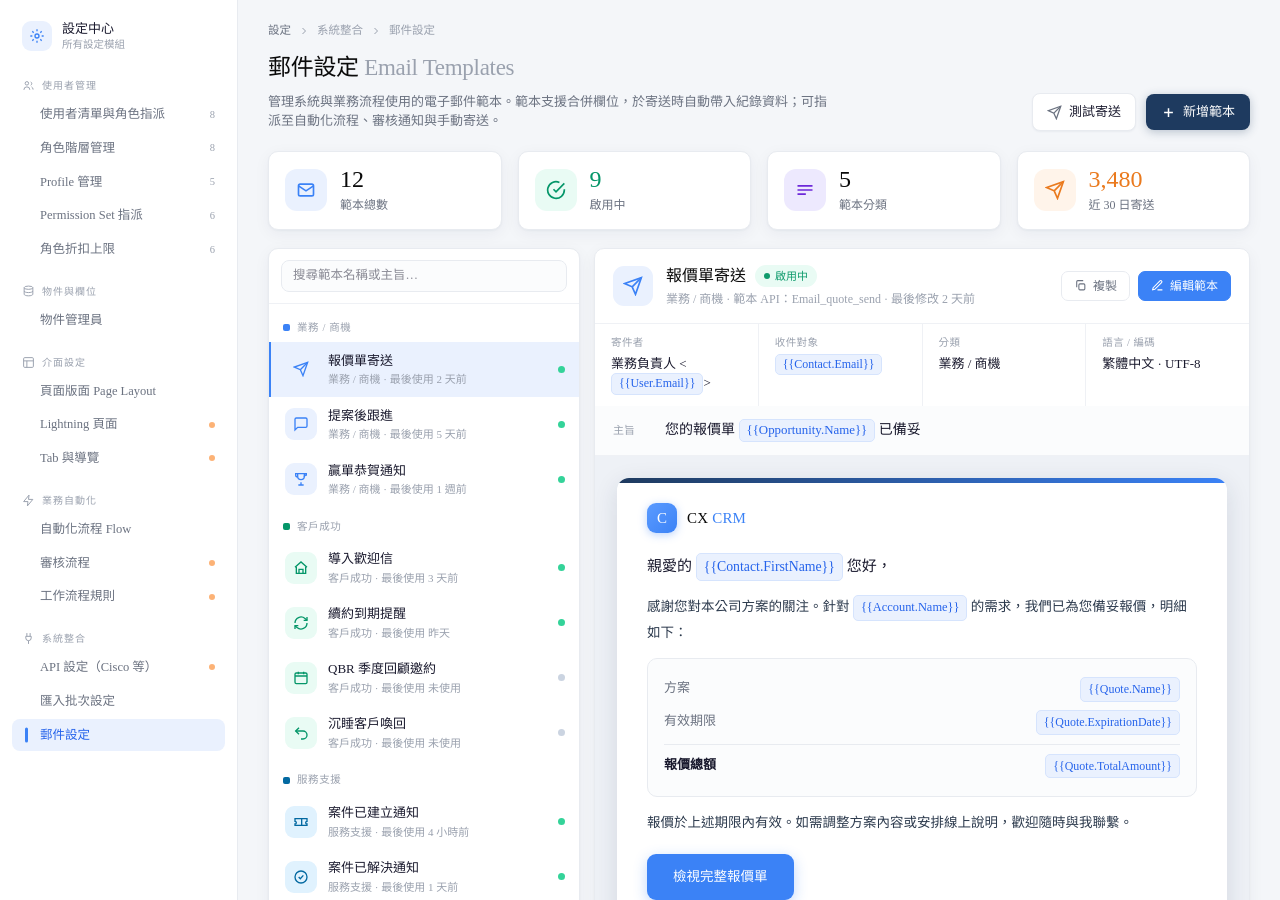
Test case: 郵件設定頁 › 搜尋過濾清單：相符顯示、不相符隱藏
The width and height of the screenshot is (1280, 900).
Type "月報" into the search field labelled "搜尋範本".
click(424, 276); type("月報")  # box [281,260,567,292]
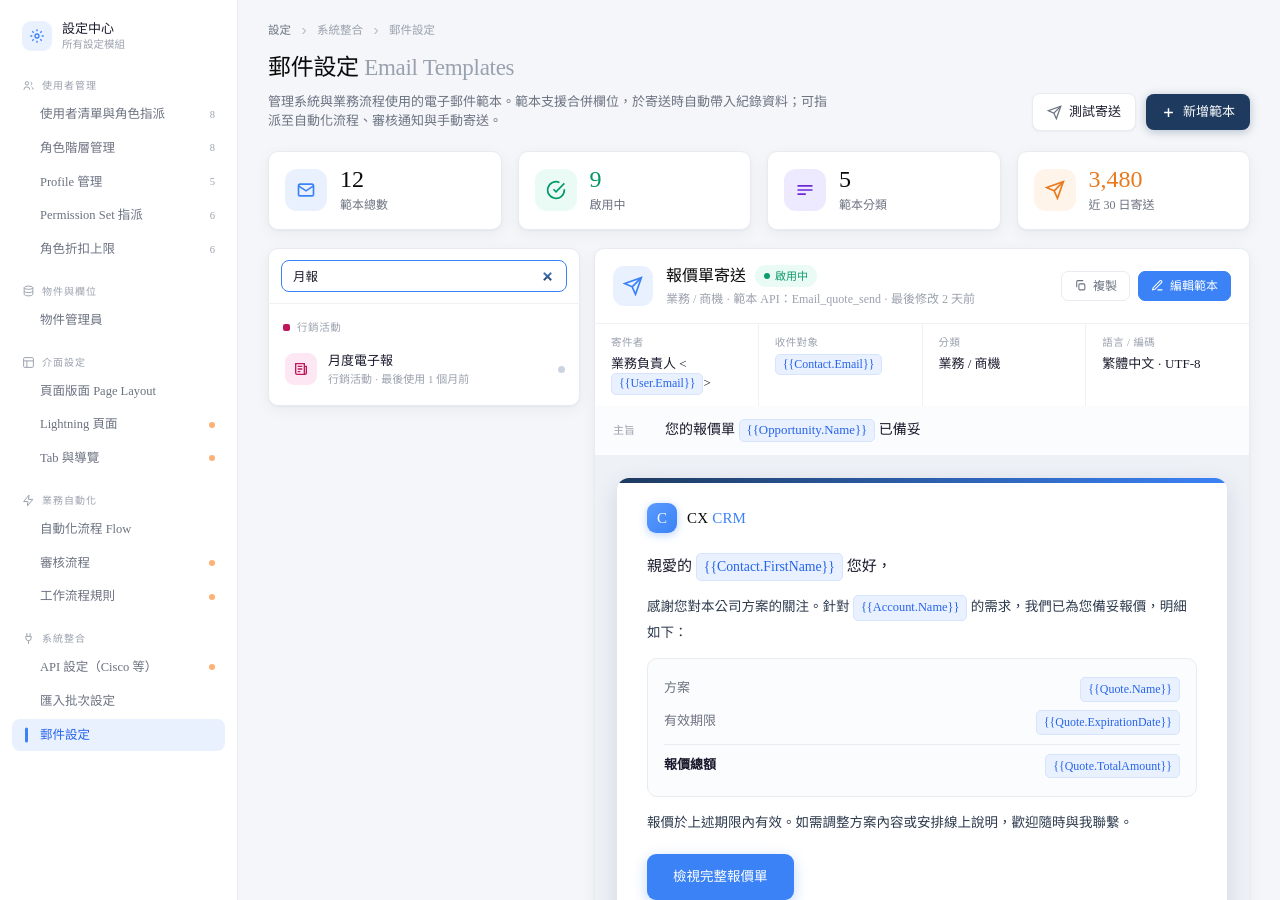
Now the text "月度電子報" is shown, box [328,352,393,368]
Now the text "提案後跟進" is gone
